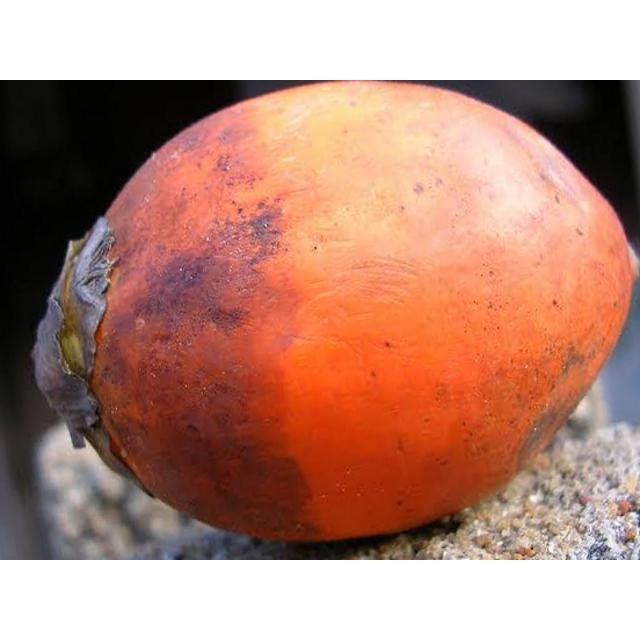good: (32, 81, 639, 545)
